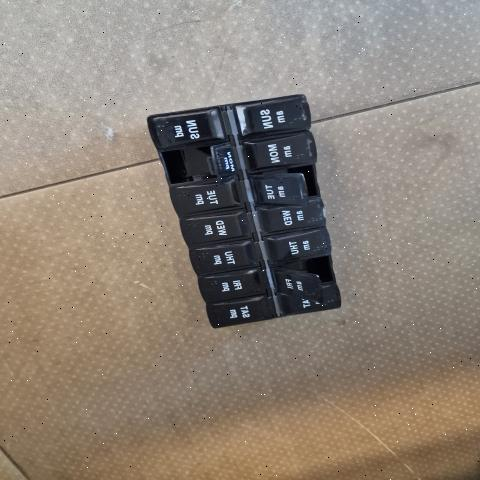Open: (157, 141, 227, 184), (257, 164, 320, 199), (272, 256, 336, 285)
